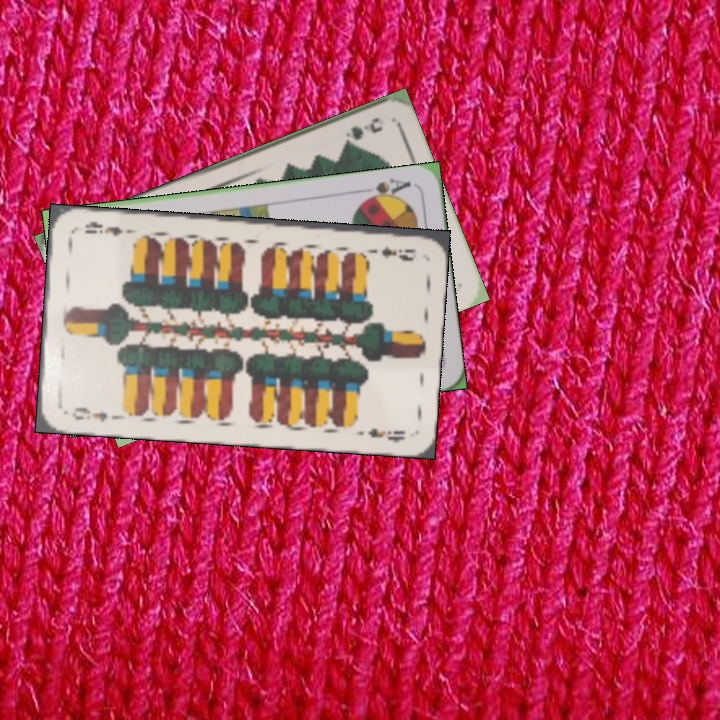E9: (363, 243, 418, 263), (68, 403, 110, 425)
G9: (340, 113, 386, 148)
SA: (356, 174, 414, 205)
